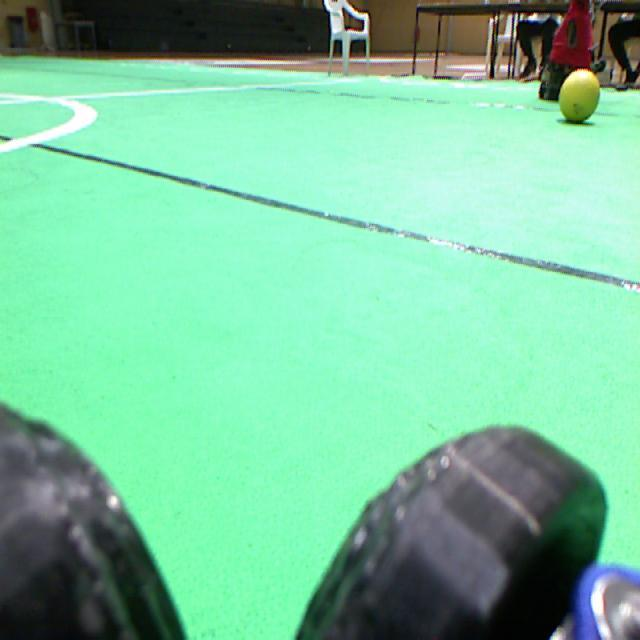ball: (559, 69, 598, 121)
